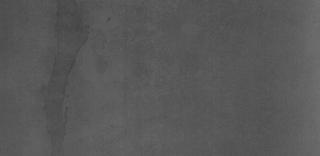water spot: (38, 0, 90, 148)
